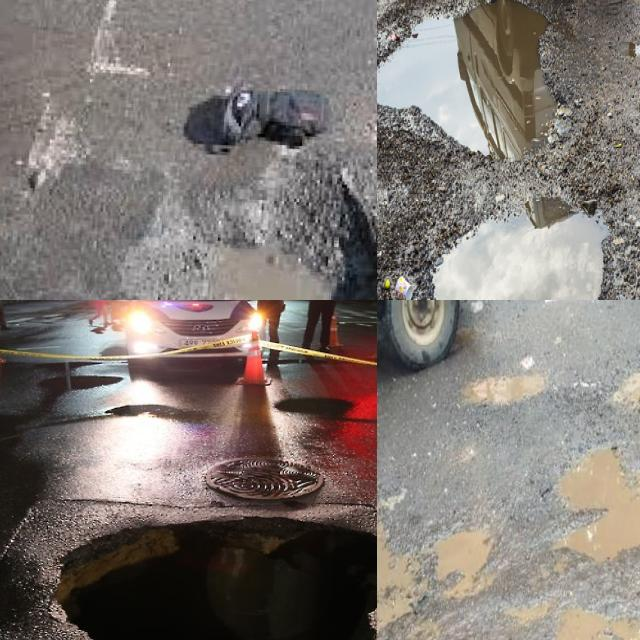Manhole: (206, 458, 323, 500)
Pothole: (56, 518, 377, 640), (147, 181, 377, 300), (377, 2, 544, 161), (436, 215, 604, 300), (549, 443, 640, 567), (434, 530, 493, 597), (463, 372, 546, 404), (611, 364, 640, 417), (613, 369, 640, 408), (506, 602, 550, 624)
